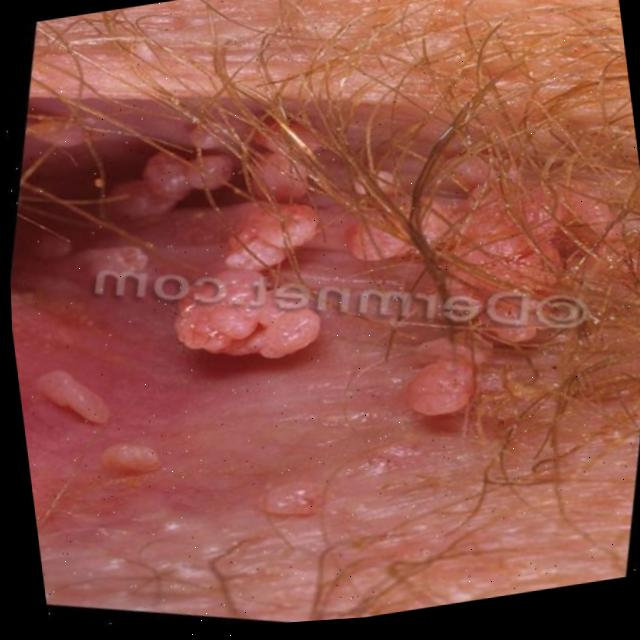Shingles: (34, 83, 607, 498)
